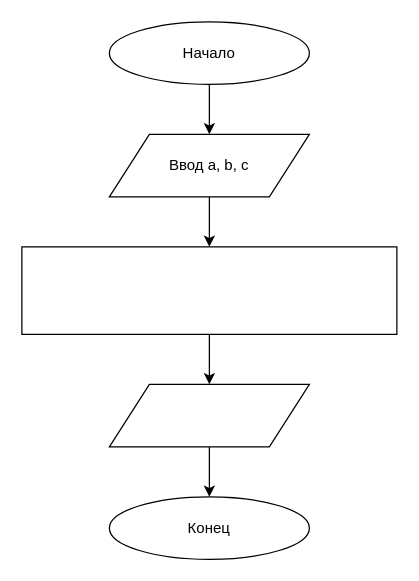
The diagram is 419 pixels wide and 581 high, and some of its shapes have lost their labels. Here are the shapes that lost their labels. From the top down, the centre of each, then its label:
At (209,290): "y = b^2 arcsin c / (c(cos a^3 +1))".
At (208,415): "Вывод y".
